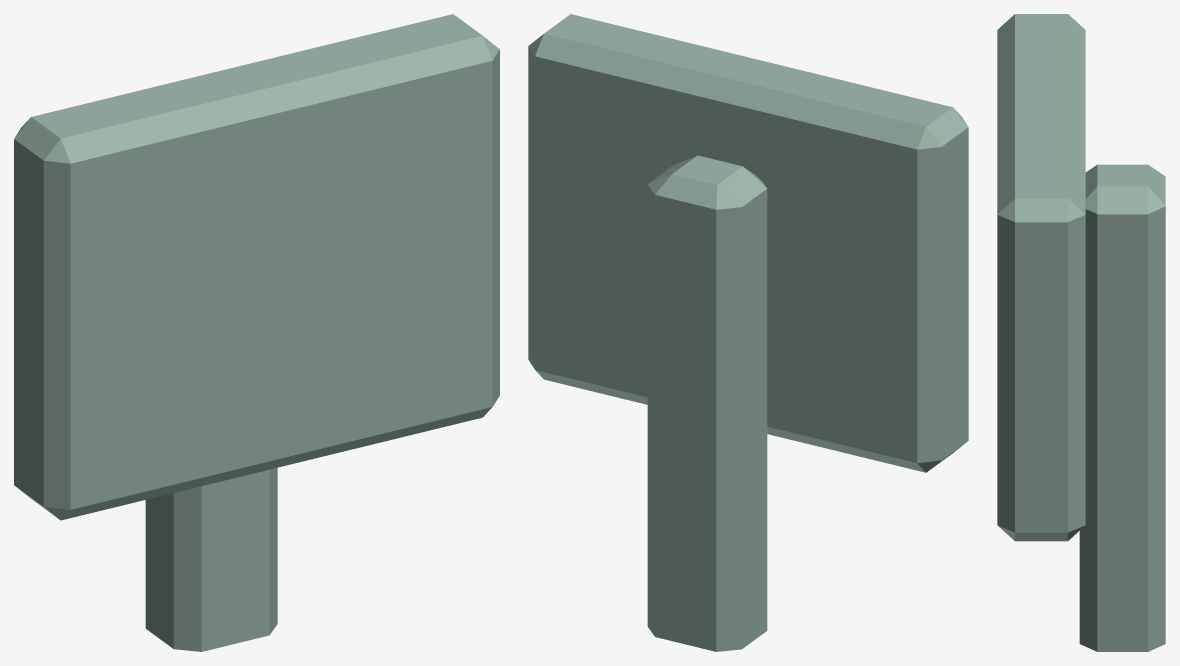
Rendered from Sign.fbx.
3 views of the same model, side by side, from view 1: azimuth 30°, elevation 25°; view 2: azimuth 150°, elevation 25°; view 3: azimuth 270°, elevation 25° (orthographic). The views are drawn at different scales.
Parts seen in each view (by area): view 1: Sign; view 2: Sign; view 3: Sign.
Part boxes in pixels (x1,y1,x2,y2): Sign: (14,14,499,651); Sign: (528,14,968,651); Sign: (997,14,1165,651).
Bounding box in the file's own units: 80 × 97.69 × 28.53.
